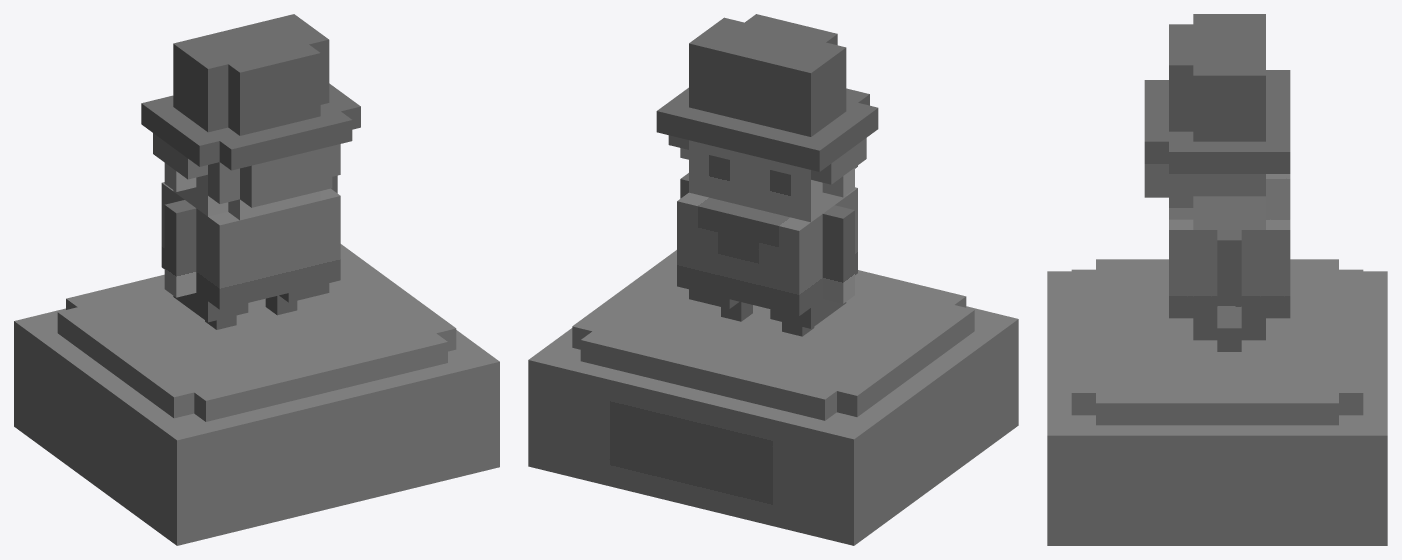
The model's file is obj_statue2.dae.
The picture shows the model from 3 angles, left to right: view 1: azimuth 30°, elevation 25°; view 2: azimuth 150°, elevation 25°; view 3: azimuth 270°, elevation 25°; orthographic projection. The views are drawn at different scales.
Parts seen in each view (by area): view 1: obj_statue2; view 2: obj_statue2; view 3: obj_statue2.
Boxes of the visible parts, bbox=[...] form: obj_statue2: bbox=[14, 14, 499, 545]; obj_statue2: bbox=[528, 14, 1018, 545]; obj_statue2: bbox=[1047, 14, 1387, 545].
Bounding box in the file's own units: 1.6 × 1.4 × 1.9.
